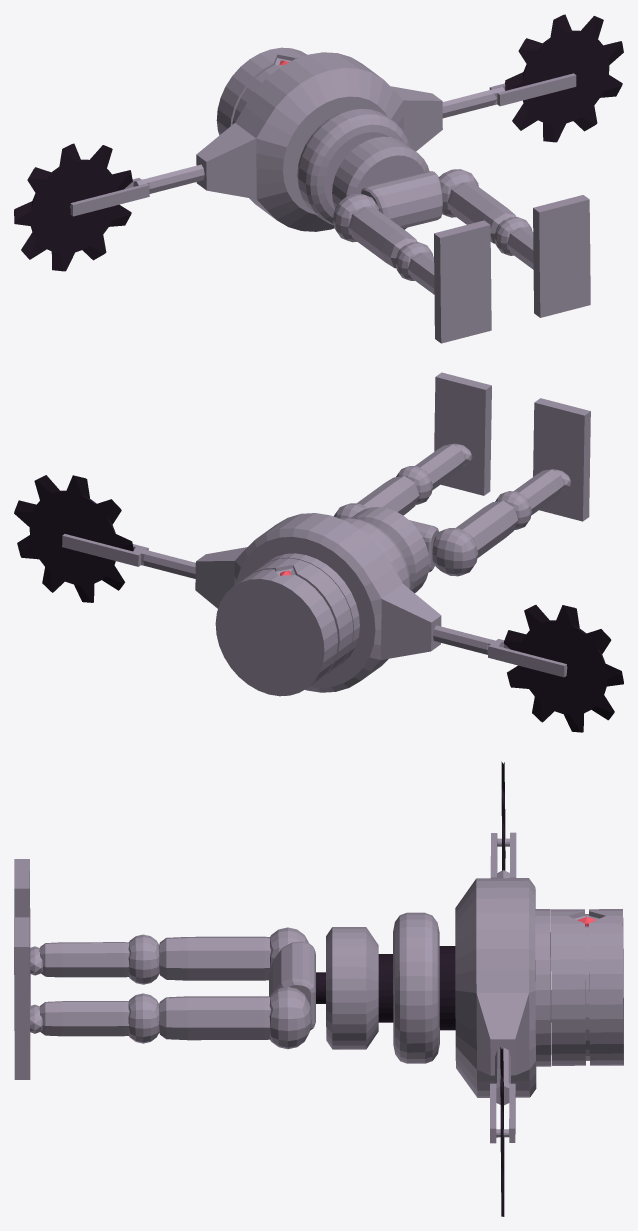
Rendered from saw-robot-no-rig.fbx.
3 views of the same model, one above another, from view 1: azimuth 30°, elevation 25°; view 2: azimuth 150°, elevation 25°; view 3: azimuth 270°, elevation 25° (orthographic). The views are drawn at different scales.
Visible parts, largest first — view 1: spine.03, right saw, left saw, foot.L, foot.R, spine.02, spine.01, thigh.R, pelvis, thigh.L, head, shin.L (+1 smaller); view 2: spine.03, head, right saw, left saw, foot.R, foot.L, thigh.R, spine.01, shin.L, shin.R, thigh.L, spine.02; view 3: spine.03, head, spine.02, spine.01, thigh.L, thigh.R, shin.L, shin.R, foot.L, pelvis, foot.R, left saw.
Boxes of the visible parts, x1,y1,x2,y2 form: spine.03: [70, 52, 576, 231]; right saw: [14, 143, 132, 271]; left saw: [505, 14, 623, 142]; foot.L: [533, 195, 590, 317]; foot.R: [434, 220, 491, 343]; spine.02: [297, 108, 409, 224]; spine.01: [332, 136, 429, 229]; thigh.R: [333, 193, 417, 268]; pelvis: [361, 171, 442, 228]; thigh.L: [438, 169, 516, 243]; head: [216, 47, 307, 135]; shin.L: [494, 217, 533, 269]; spine.03: [62, 513, 567, 692]; head: [215, 558, 353, 696]; right saw: [503, 605, 623, 732]; left saw: [14, 475, 133, 602]; foot.R: [533, 398, 590, 521]; foot.L: [434, 372, 491, 495]; thigh.R: [432, 500, 518, 576]; spine.01: [351, 507, 429, 593]; shin.L: [396, 444, 464, 504]; shin.R: [495, 469, 563, 529]; thigh.L: [333, 476, 419, 518]; spine.02: [340, 518, 410, 589]; spine.03: [455, 832, 551, 1143]; head: [551, 909, 623, 1065]; spine.02: [393, 912, 455, 1063]; spine.01: [326, 927, 393, 1049]; thigh.L: [159, 987, 312, 1049]; thigh.R: [159, 927, 308, 980]; shin.L: [39, 993, 159, 1043]; shin.R: [39, 934, 159, 984]; foot.L: [14, 917, 42, 1079]; pelvis: [269, 941, 325, 1030]; foot.R: [14, 859, 42, 1005]; left saw: [500, 1047, 504, 1216].
Bounding box in the file's own units: 313 × 78.62 × 218.
1 material, 1 textured.
